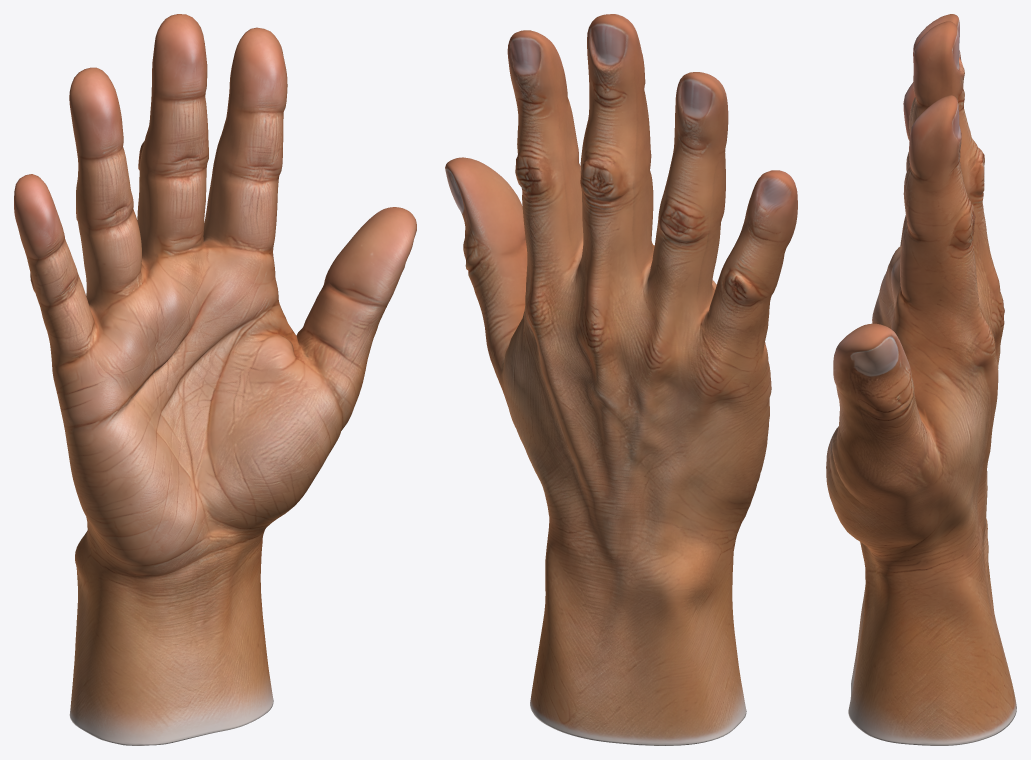
File: 3c_hand.glb
3 views of the same model, side by side, from view 1: azimuth 30°, elevation 25°; view 2: azimuth 150°, elevation 25°; view 3: azimuth 270°, elevation 25° (orthographic). The views are drawn at different scales.
Visible parts, largest first — view 1: model; view 2: model; view 3: model.
Boxes of the visible parts, bbox=[...] form: model: bbox=[14, 14, 416, 745]; model: bbox=[445, 14, 797, 745]; model: bbox=[826, 14, 1016, 745].
Size of the model in its own units: 1.08 by 1.9 by 0.4784.
Materials: 1 (1 with a texture image).
